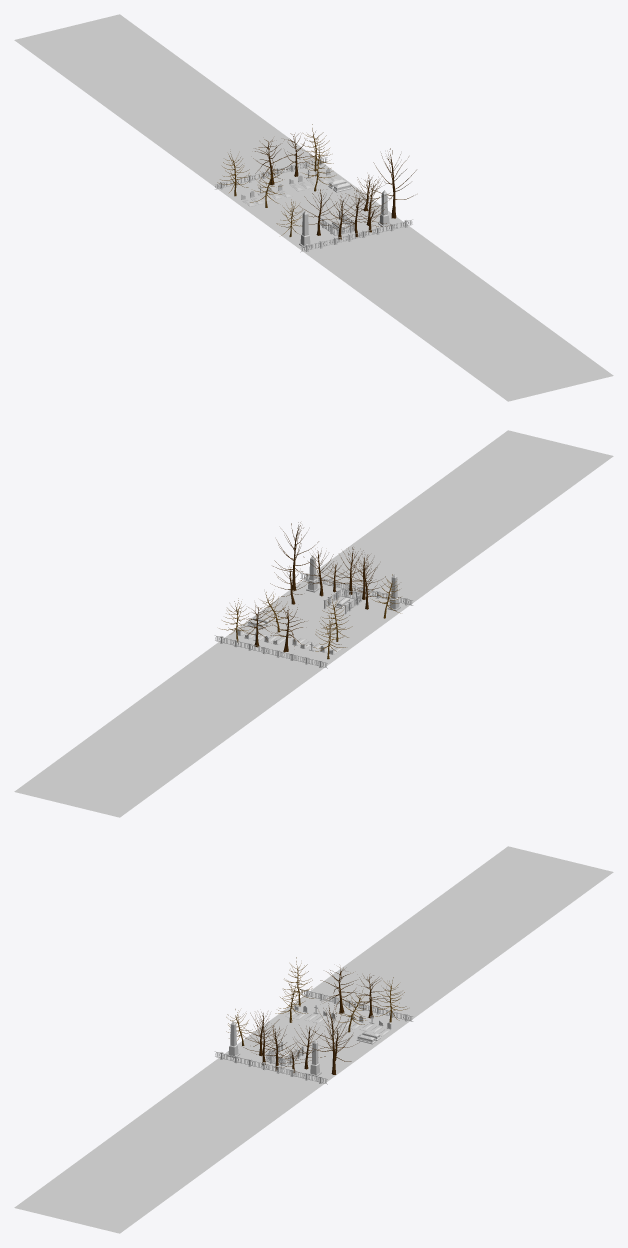
3 renders of one model, top to bottom at view 1: azimuth 30°, elevation 25°; view 2: azimuth 150°, elevation 25°; view 3: azimuth 330°, elevation 25°, orthographic.
Visible parts, largest first — view 1: Plane001, GY102; view 2: Plane001, GY102; view 3: Plane001, GY102.
Boxes of the visible parts, left/top/right/bottom form: Plane001: left=14, top=14, right=613, bottom=401; GY102: left=214, top=157, right=413, bottom=252; Plane001: left=14, top=430, right=613, bottom=817; GY102: left=214, top=573, right=413, bottom=668; Plane001: left=14, top=846, right=613, bottom=1233; GY102: left=214, top=989, right=413, bottom=1084.
Size of the model in its own units: 1266 by 640 by 8000.
